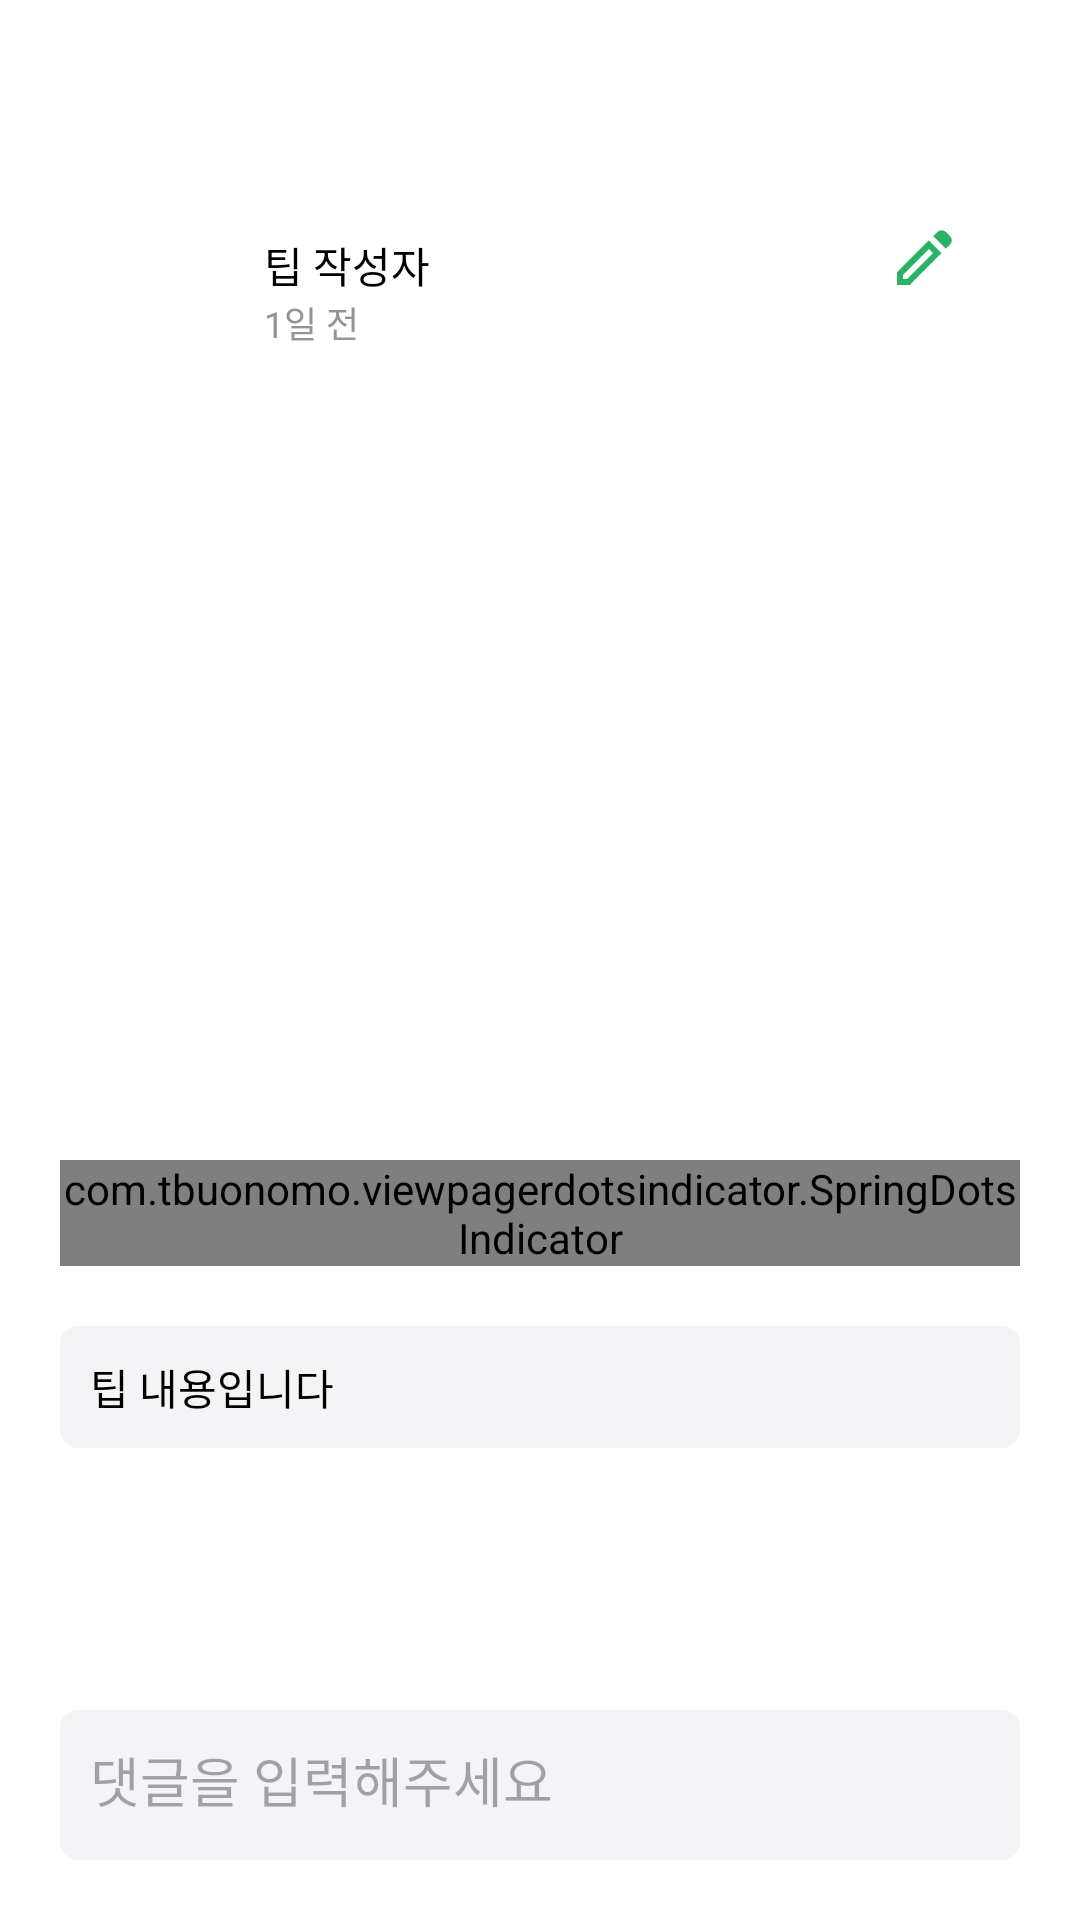

Icon bounding boxes for this 1080*1920 phone screenshot, format (x1, y1, x2, y2):
edit: (897, 230, 952, 285)
